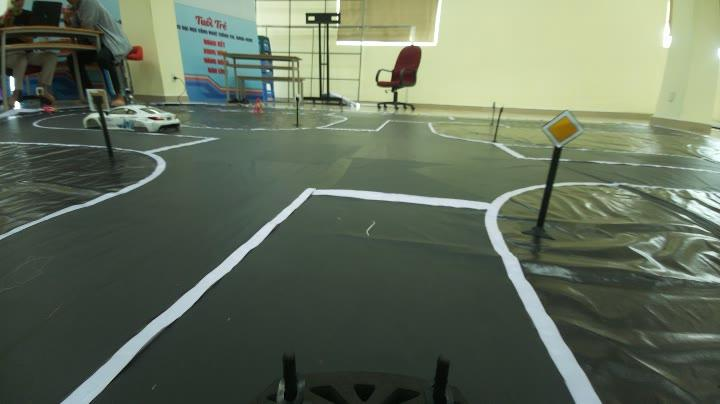priority: (533, 108, 593, 150)
